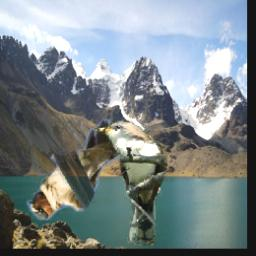Cuckoo: (93, 122, 167, 247)
Swallow: (28, 120, 131, 221)
